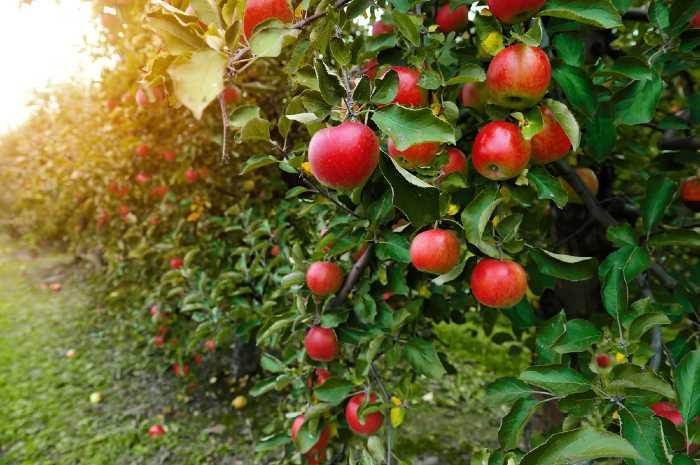apple: (306, 120, 379, 192), (485, 45, 553, 111), (471, 122, 530, 181), (470, 259, 528, 309), (407, 227, 459, 274), (304, 260, 342, 296), (304, 326, 337, 363)
